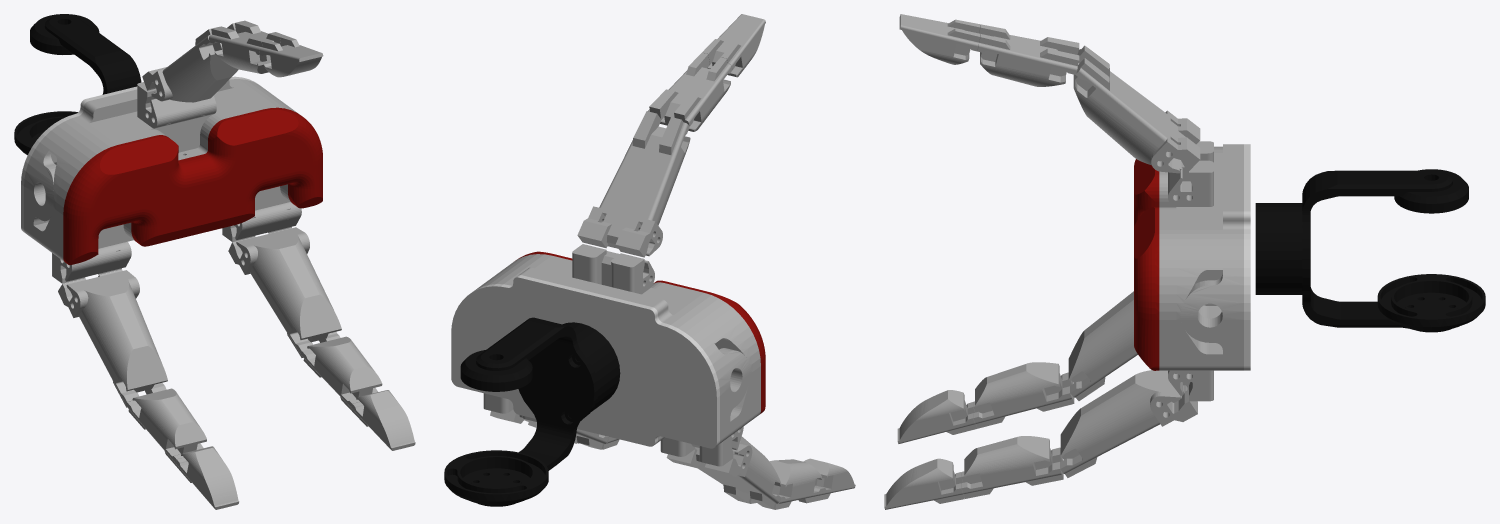
File: HandO2_open.obj
3 views of the same model, side by side, from view 1: azimuth 30°, elevation 25°; view 2: azimuth 150°, elevation 25°; view 3: azimuth 270°, elevation 25° (orthographic). The views are drawn at different scales.
Parts seen in each view (by area): view 1: Hand_ball_-_palmPadMountingPAD-1.003, Hand_ball_-_Finger_Proximal-3.003, Hand_ball_-_Finger_Proximal-1.003, Hand_ball_-_FingerMountingTopPlate-1.003, Hand_ball_-_Finger_Distal-2.003, Hand_ball_-_Finger_Distal-1.003, wrist_yaw_right.004, Hand_ball_-_ShaftSupport-1.003, Hand_ball_-_Finger_Distal-3.003, Hand_ball_-_Finger_Proximal-2.003, Hand_ball_-_eyeHookMountingPlate-1.003, Hand_ball_-_2015_12_28_Finger_New_baseOnly-1.003 (+4 smaller); view 2: Hand_ball_-_ShaftSupport_underplate-1.003, wrist_yaw_right.004, Hand_ball_-_Finger_Proximal-2.003, Hand_ball_-_Finger_Distal-3.003, Hand_ball_-_ShaftSupport-1.003, wrist_yaw_right_flange.004, Hand_ball_-_FingerMountingTopPlate-1.003, Hand_ball_-_Finger_Proximal-3.003, Hand_ball_-_Finger_Distal-2.003, Hand_ball_-_2015_12_28_Finger_New_baseOnly-1.003, Hand_ball_-_eyeHookMountingPlate-1.003, Cylinder.004 (+4 smaller); view 3: wrist_yaw_right.004, Hand_ball_-_Finger_Proximal-2.003, Hand_ball_-_Finger_Proximal-1.003, Hand_ball_-_Finger_Distal-3.003, Hand_ball_-_Finger_Distal-1.003, Hand_ball_-_Finger_Distal-2.003, Hand_ball_-_ShaftSupport-1.003, Hand_ball_-_FingerMountingTopPlate-1.003, Hand_ball_-_palmPadMountingPAD-1.003, wrist_yaw_right_flange.004, Cylinder.004, Hand_ball_-_Finger_Proximal-3.003 (+4 smaller).
Part boxes in pixels (bbox=[...]): Hand_ball_-_palmPadMountingPAD-1.003: bbox=[63, 107, 322, 265]; Hand_ball_-_Finger_Proximal-3.003: bbox=[58, 269, 167, 407]; Hand_ball_-_Finger_Proximal-1.003: bbox=[228, 227, 341, 357]; Hand_ball_-_FingerMountingTopPlate-1.003: bbox=[33, 86, 292, 255]; Hand_ball_-_Finger_Distal-2.003: bbox=[126, 388, 239, 509]; Hand_ball_-_Finger_Distal-1.003: bbox=[301, 336, 415, 450]; wrist_yaw_right.004: bbox=[30, 14, 141, 94]; Hand_ball_-_ShaftSupport-1.003: bbox=[24, 79, 269, 239]; Hand_ball_-_Finger_Distal-3.003: bbox=[209, 20, 323, 77]; Hand_ball_-_Finger_Proximal-2.003: bbox=[142, 21, 241, 102]; Hand_ball_-_eyeHookMountingPlate-1.003: bbox=[55, 102, 298, 261]; Hand_ball_-_2015_12_28_Finger_New_baseOnly-1.003: bbox=[137, 82, 216, 128]; Hand_ball_-_ShaftSupport_underplate-1.003: bbox=[451, 275, 719, 448]; wrist_yaw_right.004: bbox=[460, 317, 598, 506]; Hand_ball_-_Finger_Proximal-2.003: bbox=[577, 111, 690, 257]; Hand_ball_-_Finger_Distal-3.003: bbox=[648, 14, 765, 131]; Hand_ball_-_ShaftSupport-1.003: bbox=[474, 267, 750, 443]; wrist_yaw_right_flange.004: bbox=[444, 450, 548, 505]; Hand_ball_-_FingerMountingTopPlate-1.003: bbox=[484, 260, 752, 436]; Hand_ball_-_Finger_Proximal-3.003: bbox=[666, 436, 781, 509]; Hand_ball_-_Finger_Distal-2.003: bbox=[748, 458, 855, 509]; Hand_ball_-_2015_12_28_Finger_New_baseOnly-1.003: bbox=[572, 244, 654, 294]; Hand_ball_-_eyeHookMountingPlate-1.003: bbox=[506, 254, 760, 420]; Cylinder.004: bbox=[562, 322, 620, 418]; wrist_yaw_right.004: bbox=[1302, 169, 1468, 332]; Hand_ball_-_Finger_Proximal-2.003: bbox=[1073, 45, 1200, 173]; Hand_ball_-_Finger_Proximal-1.003: bbox=[1060, 370, 1197, 477]; Hand_ball_-_Finger_Distal-3.003: bbox=[899, 14, 1079, 86]; Hand_ball_-_Finger_Distal-1.003: bbox=[884, 436, 1063, 509]; Hand_ball_-_Finger_Distal-2.003: bbox=[897, 362, 1074, 443]; Hand_ball_-_ShaftSupport-1.003: bbox=[1180, 144, 1243, 370]; Hand_ball_-_FingerMountingTopPlate-1.003: bbox=[1176, 146, 1222, 370]; Hand_ball_-_palmPadMountingPAD-1.003: bbox=[1134, 159, 1159, 370]; wrist_yaw_right_flange.004: bbox=[1377, 274, 1485, 330]; Cylinder.004: bbox=[1255, 203, 1302, 294]; Hand_ball_-_Finger_Proximal-3.003: bbox=[1068, 291, 1137, 400].
Size of the model in its own units: 0.135 by 0.2176 by 0.2557.
